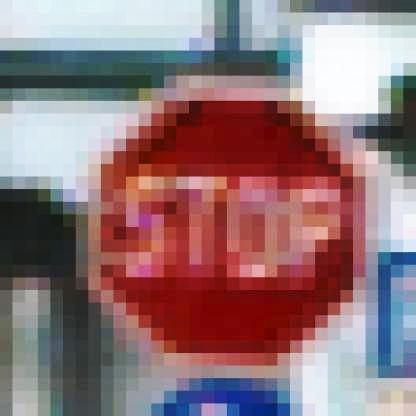Stop Sign: (81, 82, 385, 361)
